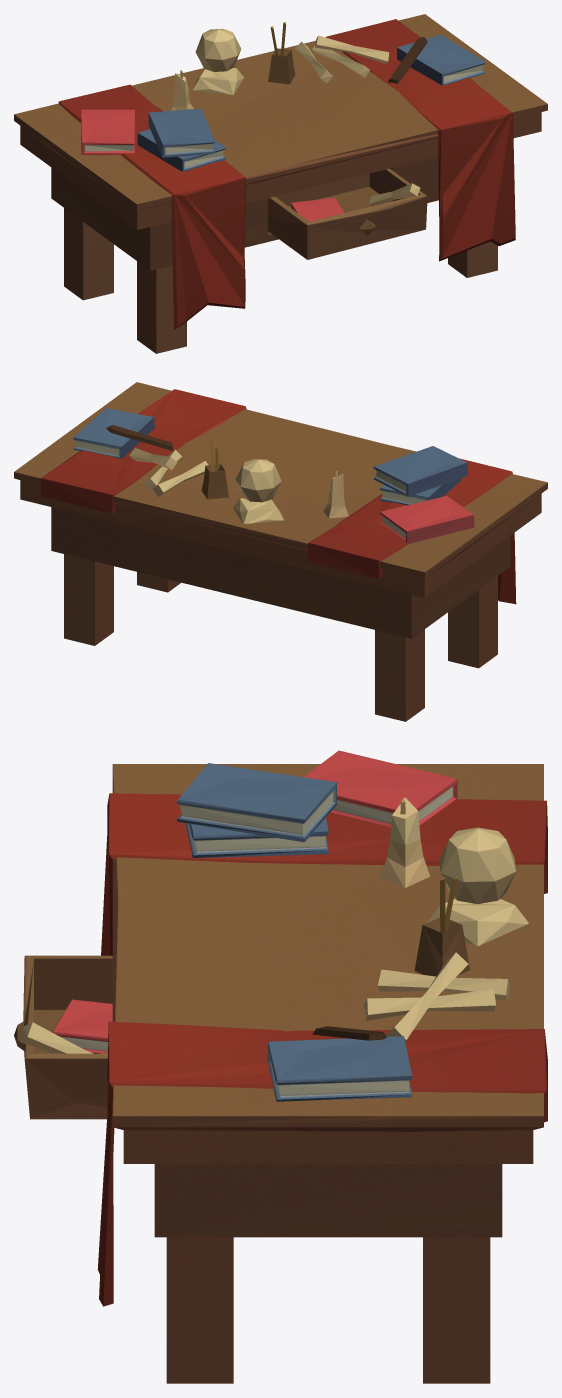
Rendered from YouXiZhuJieMian.FBX.
3 views of the same model, one above another, from view 1: azimuth 30°, elevation 25°; view 2: azimuth 150°, elevation 25°; view 3: azimuth 270°, elevation 25° (orthographic). The views are drawn at different scales.
Parts seen in each view (by area): view 1: YouXiZhuJieMian; view 2: YouXiZhuJieMian; view 3: YouXiZhuJieMian.
Part boxes in pixels (x1,y1,x2,y2): YouXiZhuJieMian: (14,14,547,353); YouXiZhuJieMian: (14,382,547,721); YouXiZhuJieMian: (14,750,547,1383).
Size of the model in its own units: 1.97 by 1.02 by 1.27.
